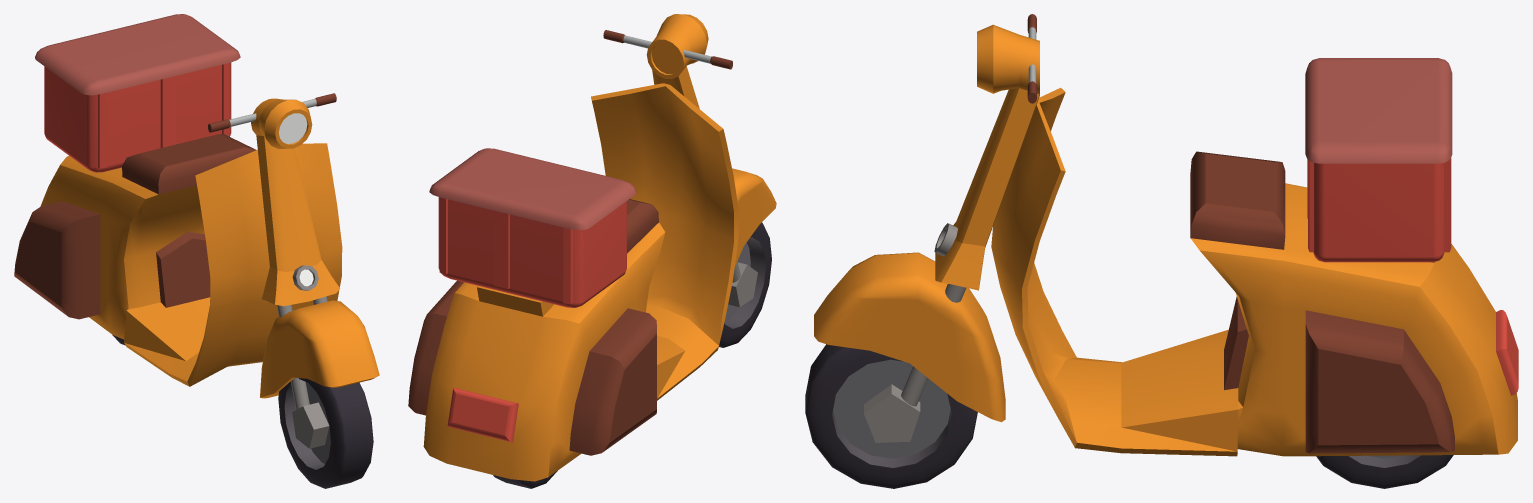
Rendered from vespa 1.fbx.
3 views of the same model, side by side, from view 1: azimuth 30°, elevation 25°; view 2: azimuth 150°, elevation 25°; view 3: azimuth 270°, elevation 25° (orthographic). The views are drawn at different scales.
Visible parts, largest first — view 1: vespa_body, motobike_front, box_body, box_upper, wheel; view 2: vespa_body, box_body, box_upper, motobike_front, wheel; view 3: vespa_body, motobike_front, wheel, box_upper, box_body, vespa_back_wheel.
Boxes of the visible parts, x1=… form: vespa_body: x1=14, y1=134, x2=342, y2=386; motobike_front: x1=208, y1=93, x2=379, y2=398; box_body: x1=44, y1=62, x2=231, y2=172; box_upper: x1=35, y1=14, x2=240, y2=95; wheel: x1=278, y1=377, x2=373, y2=488; vespa_body: x1=408, y1=83, x2=738, y2=481; box_body: x1=438, y1=197, x2=626, y2=307; box_upper: x1=429, y1=148, x2=636, y2=229; motobike_front: x1=603, y1=14, x2=776, y2=266; wheel: x1=719, y1=222, x2=771, y2=347; vespa_body: x1=991, y1=87, x2=1518, y2=456; motobike_front: x1=814, y1=14, x2=1039, y2=422; wheel: x1=805, y1=344, x2=977, y2=488; box_upper: x1=1305, y1=58, x2=1452, y2=163; box_body: x1=1307, y1=158, x2=1451, y2=262; vespa_back_wheel: x1=1316, y1=455, x2=1453, y2=488.
Bounding box in the file's own units: 430 × 726 × 1035.
